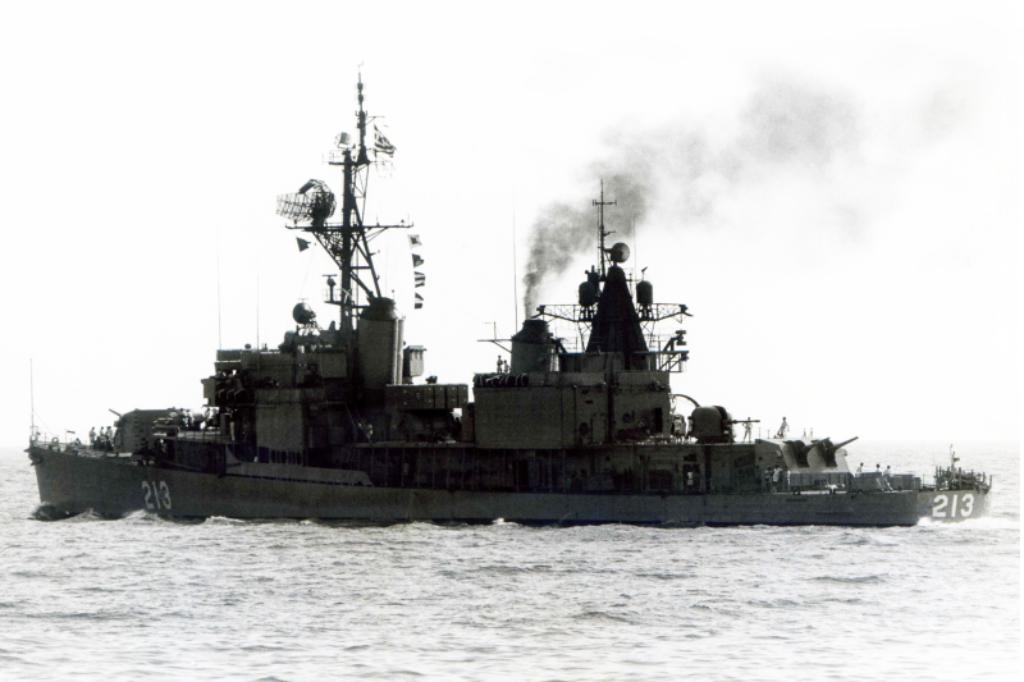Warship: (21, 68, 993, 526)
